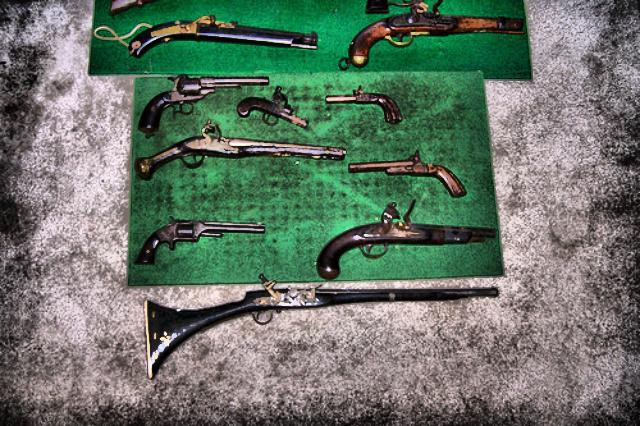pistol: (313, 203, 503, 275), (128, 69, 268, 135), (130, 212, 262, 260), (346, 152, 466, 203), (323, 86, 401, 128), (238, 86, 304, 126)
